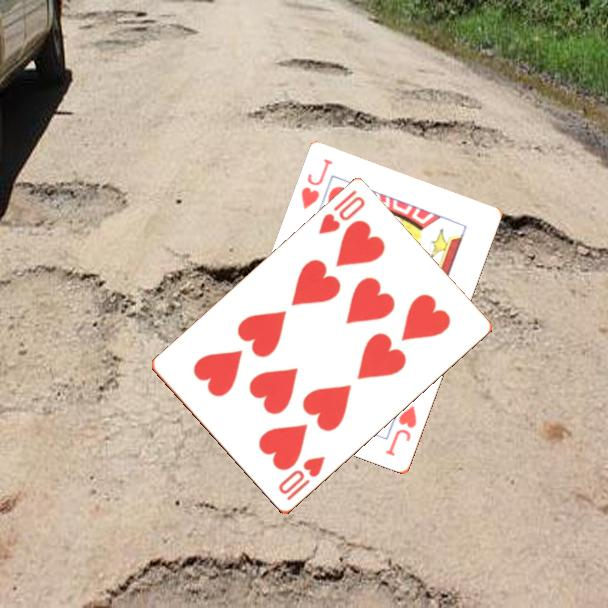h10: (275, 453, 328, 504), (315, 187, 368, 238)
h11: (382, 402, 420, 460), (298, 156, 336, 213)
